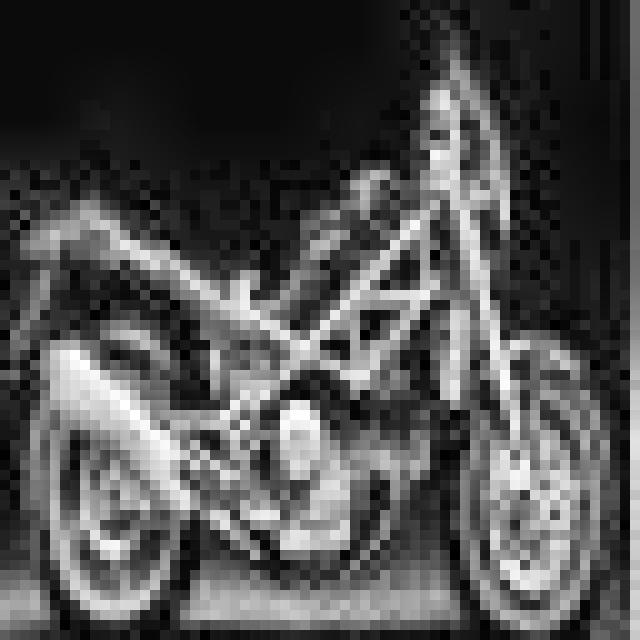mopeds: (19, 56, 626, 639)
